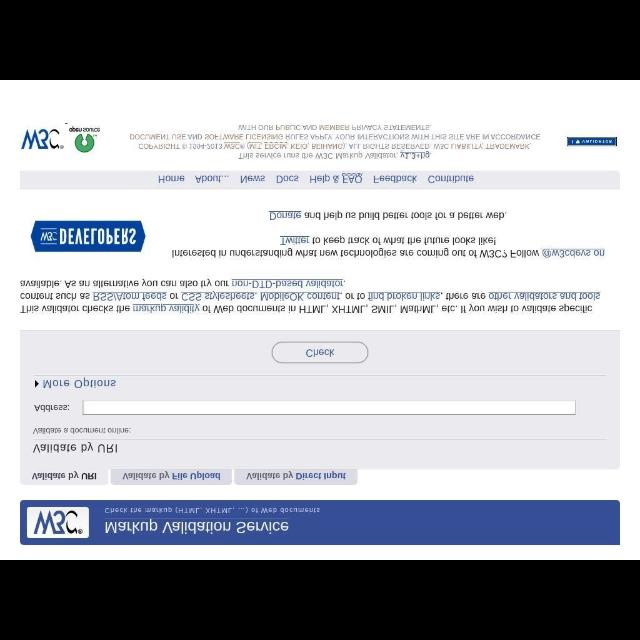icon: (34, 380, 38, 388)
image: (30, 221, 146, 253), (27, 505, 89, 539), (20, 126, 66, 152), (70, 126, 102, 154), (566, 136, 618, 148)
input: (80, 400, 576, 416)
link: (486, 291, 602, 301), (230, 279, 346, 289), (308, 172, 362, 192), (426, 170, 476, 190), (260, 290, 340, 302), (370, 170, 418, 190), (130, 304, 198, 316), (92, 292, 166, 302), (181, 292, 255, 302), (194, 172, 232, 190), (540, 247, 606, 257), (366, 292, 444, 300), (239, 172, 267, 190), (274, 171, 302, 189), (296, 472, 346, 482), (156, 173, 187, 189), (172, 472, 220, 481), (267, 210, 303, 222), (280, 235, 310, 245), (401, 151, 432, 159)
multitab: (20, 471, 358, 484)
spinner: (30, 378, 116, 392)
text: (21, 278, 601, 316), (130, 122, 542, 160), (174, 234, 608, 260), (104, 517, 290, 537), (105, 504, 322, 518), (267, 210, 509, 222), (29, 442, 121, 456), (31, 425, 131, 435), (42, 379, 118, 389), (30, 473, 98, 481), (121, 472, 170, 482), (246, 472, 294, 482), (32, 402, 72, 412), (304, 348, 334, 356)
textbutton: (272, 342, 368, 362), (233, 470, 359, 484), (121, 471, 222, 485), (20, 471, 109, 484)
